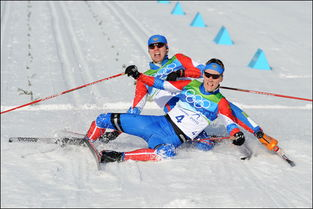fall: (109, 30, 204, 113)
